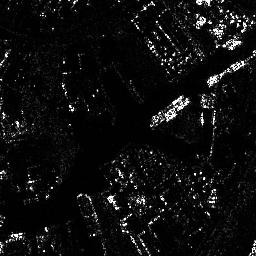ship: (150, 94, 187, 127)
